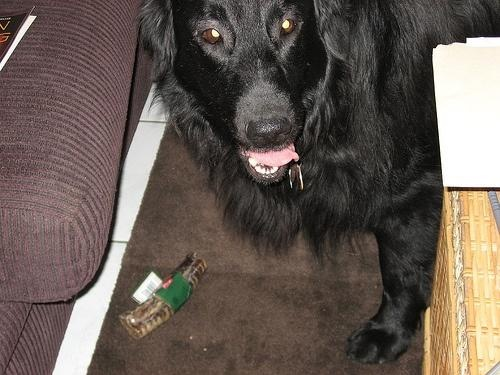dog: (139, 1, 500, 367)
